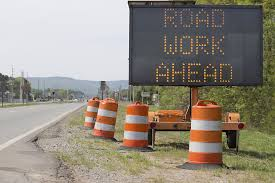barrel: (188, 103, 223, 162), (122, 104, 149, 147), (91, 99, 119, 138), (85, 100, 98, 128)
